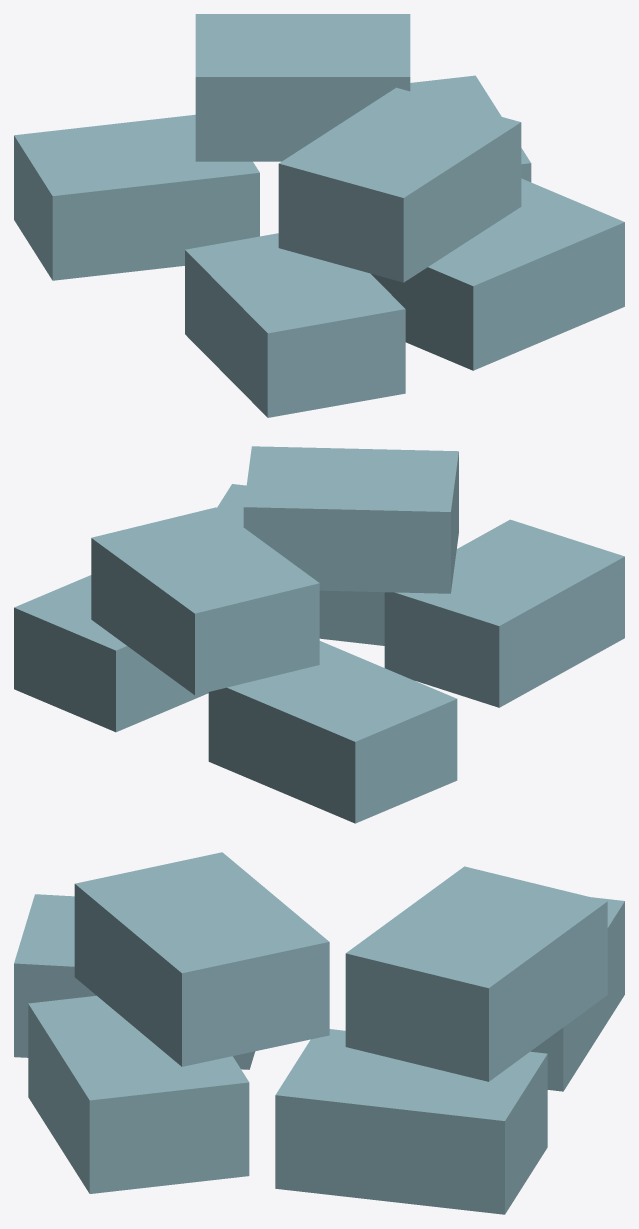
The model's file is debris.dae.
3 renders of one model, top to bottom at view 1: azimuth 30°, elevation 25°; view 2: azimuth 150°, elevation 25°; view 3: azimuth 270°, elevation 25°, orthographic. The views are drawn at different scales.
Parts seen in each view (by area): view 1: debris; view 2: debris; view 3: debris.
Boxes of the visible parts, bbox=[...] form: debris: bbox=[14, 14, 624, 417]; debris: bbox=[14, 446, 624, 823]; debris: bbox=[14, 852, 624, 1214].
Size of the model in its own units: 0.4365 by 0.16 by 0.4731.
